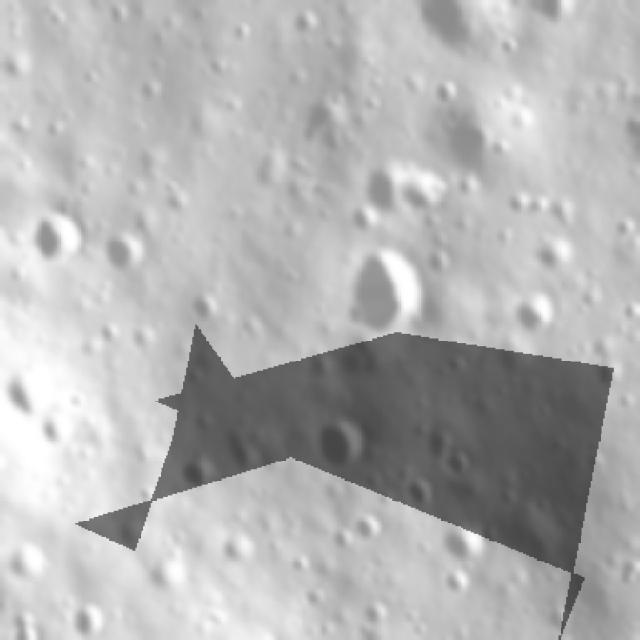crater: (338, 240, 432, 338), (444, 106, 502, 174), (314, 413, 371, 473), (7, 363, 64, 422), (31, 209, 86, 266), (303, 93, 359, 147), (392, 164, 446, 218), (508, 287, 561, 338), (336, 331, 390, 380), (97, 232, 149, 278), (442, 518, 489, 568), (3, 540, 54, 586), (219, 424, 264, 474), (530, 233, 576, 276), (144, 555, 190, 596), (65, 599, 110, 639), (178, 452, 220, 494), (37, 410, 78, 452), (218, 528, 260, 567), (188, 285, 225, 323), (161, 183, 197, 219), (426, 77, 462, 112), (349, 512, 386, 546), (314, 126, 352, 159), (402, 476, 438, 510), (418, 428, 454, 462), (540, 599, 574, 633), (587, 331, 619, 366), (441, 453, 479, 482), (590, 360, 624, 392), (136, 73, 167, 107), (292, 6, 323, 40), (131, 211, 163, 243), (547, 195, 578, 227), (363, 592, 389, 628), (282, 64, 312, 95), (6, 614, 43, 637), (581, 451, 607, 482), (442, 572, 471, 598), (504, 193, 533, 218), (618, 556, 638, 590), (612, 214, 638, 240), (332, 526, 356, 554), (300, 584, 326, 608), (498, 33, 522, 59), (362, 95, 388, 118), (231, 21, 257, 44), (206, 54, 228, 80), (46, 117, 68, 143), (616, 387, 635, 416), (534, 401, 554, 425), (618, 300, 639, 322)
